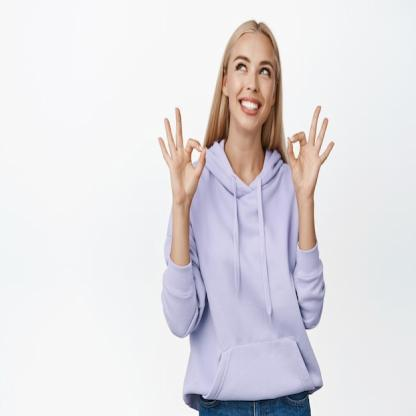ok: (156, 104, 210, 202), (283, 100, 336, 198)
